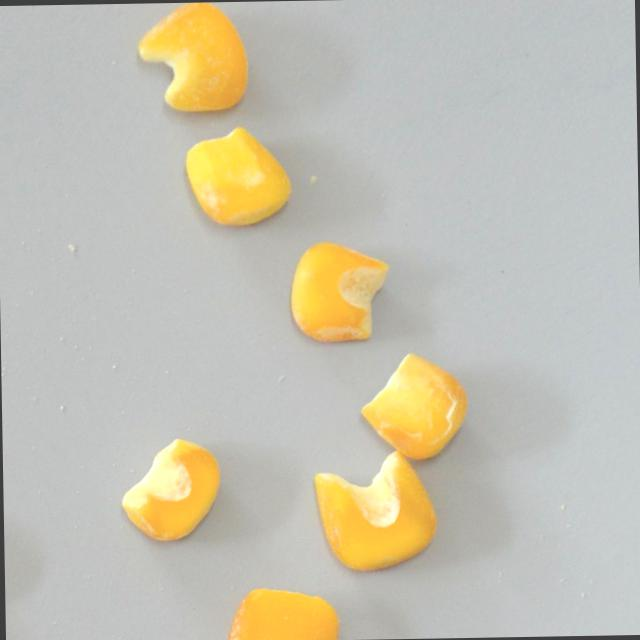dañado: (308, 449, 440, 578), (354, 347, 475, 464), (131, 1, 254, 116), (288, 237, 395, 349), (120, 437, 226, 545), (222, 584, 343, 640)
pelicula: (181, 120, 295, 230)
